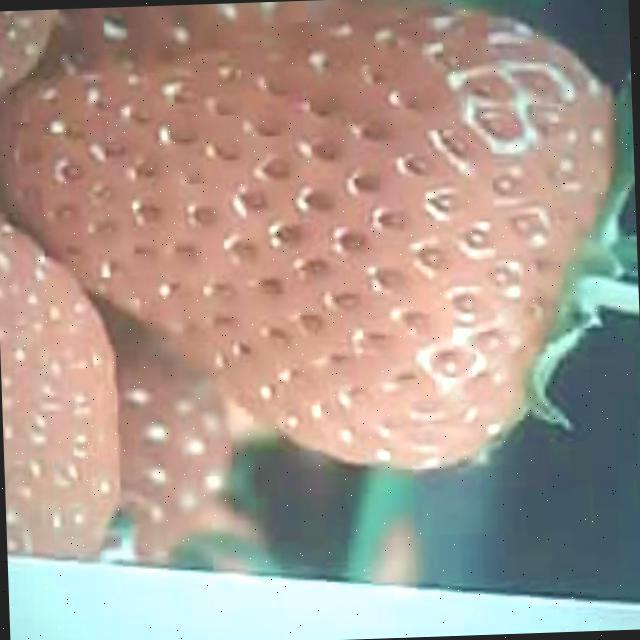ripe: (0, 0, 624, 481)
